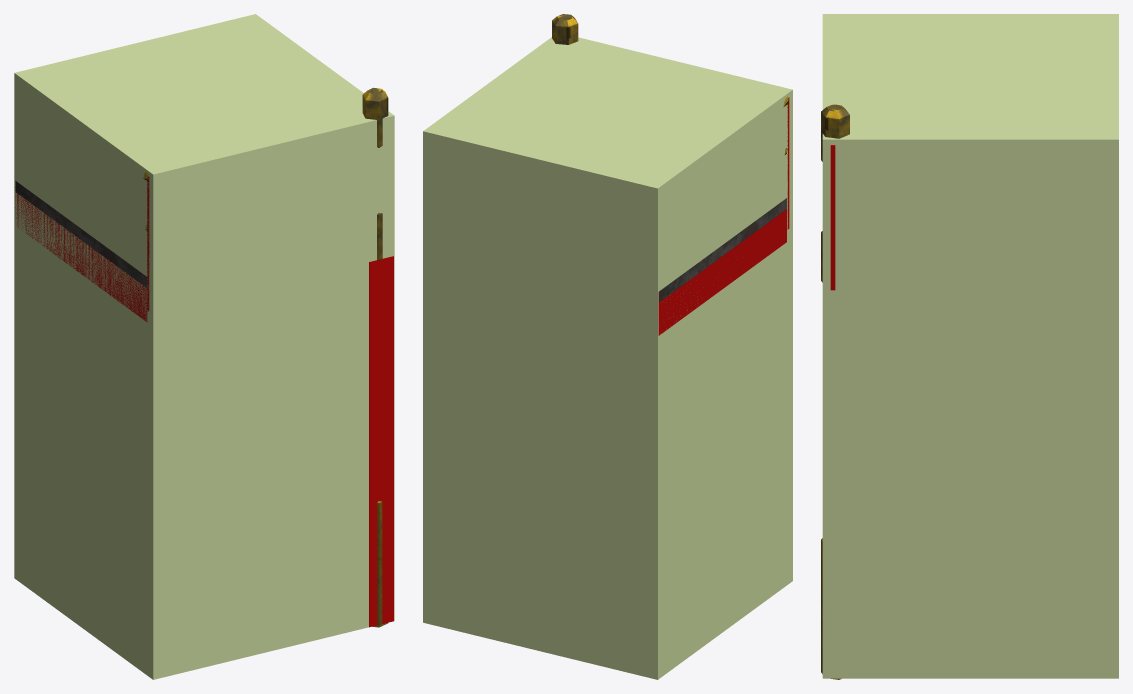
The model's file is SciFi_walkway_corner.DAE.
3 views of the same model, side by side, from view 1: azimuth 30°, elevation 25°; view 2: azimuth 150°, elevation 25°; view 3: azimuth 270°, elevation 25° (orthographic). The views are drawn at different scales.
Parts seen in each view (by area): view 1: bounds, colbox-04, colbox-01, walkway_two_corner; view 2: bounds, colbox-01, walkway_two_corner; view 3: bounds, walkway_two_corner, colbox-02.
Part boxes in pixels (x1=…): bounds: x1=14, y1=14, x2=394, y2=679; colbox-04: x1=369, y1=256, x2=393, y2=627; colbox-01: x1=15, y1=182, x2=147, y2=321; walkway_two_corner: x1=15, y1=87, x2=388, y2=627; bounds: x1=423, y1=37, x2=792, y2=679; colbox-01: x1=658, y1=209, x2=786, y2=335; walkway_two_corner: x1=552, y1=14, x2=789, y2=302; bounds: x1=822, y1=14, x2=1118, y2=678; walkway_two_corner: x1=821, y1=104, x2=849, y2=679; colbox-02: x1=830, y1=145, x2=835, y2=290.
Size of the model in its own units: 320 by 318 by 666.
